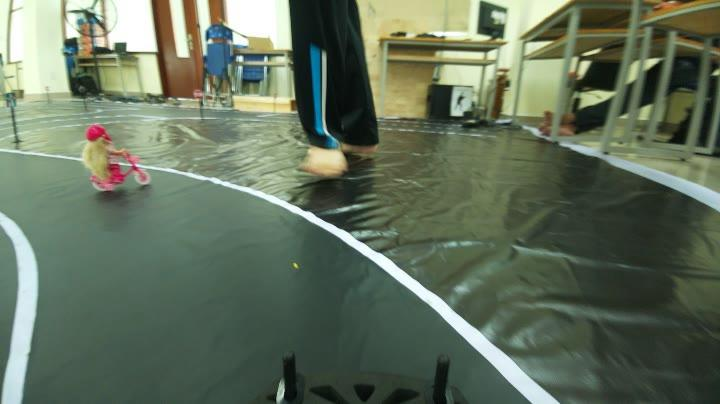pedestrian: (64, 118, 158, 198)
